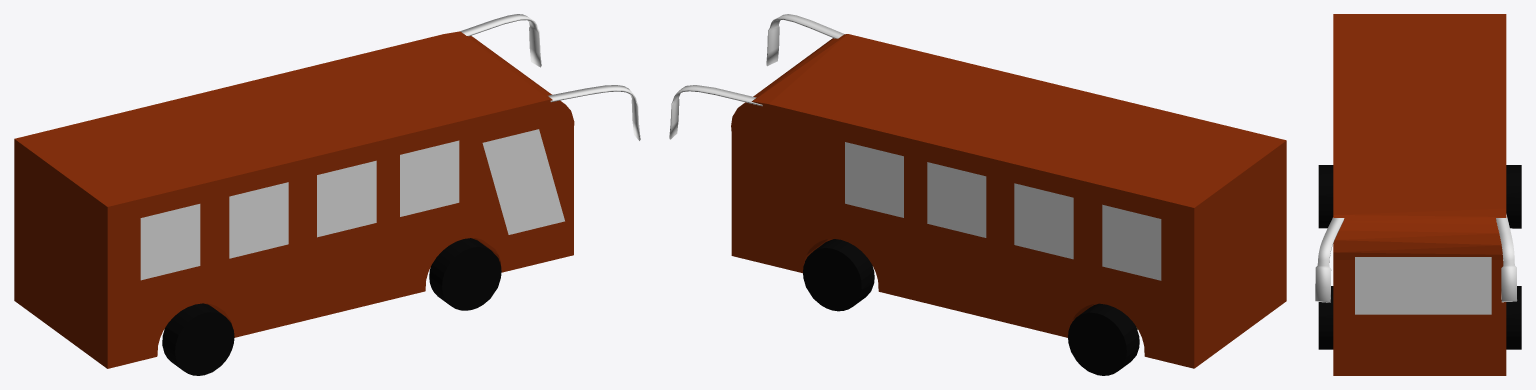
Rendered from bus.fbx.
The picture shows the model from 3 angles, left to right: view 1: azimuth 30°, elevation 25°; view 2: azimuth 150°, elevation 25°; view 3: azimuth 270°, elevation 25°; orthographic projection. The views are drawn at different scales.
Parts seen in each view (by area): view 1: Cube; view 2: Cube; view 3: Cube.
Part boxes in pixels (<box>): Cube: <box>14,14,640,375</box>; Cube: <box>669,14,1286,375</box>; Cube: <box>1315,14,1521,375</box>.
Size of the model in its own units: 1769 by 592 by 647.
